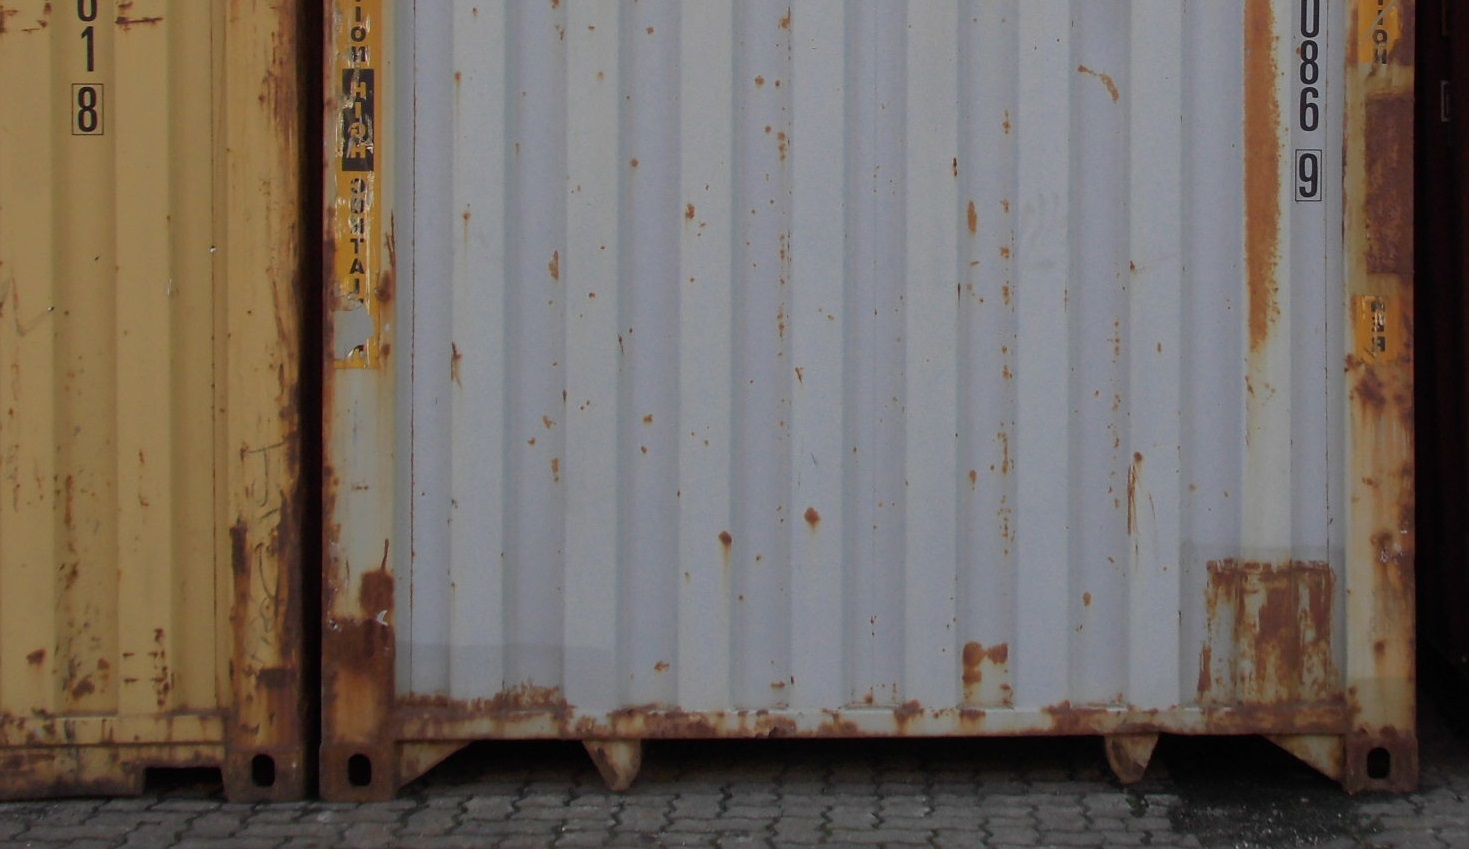container_no_door: (318, 1, 1428, 797), (1, 1, 304, 805)
